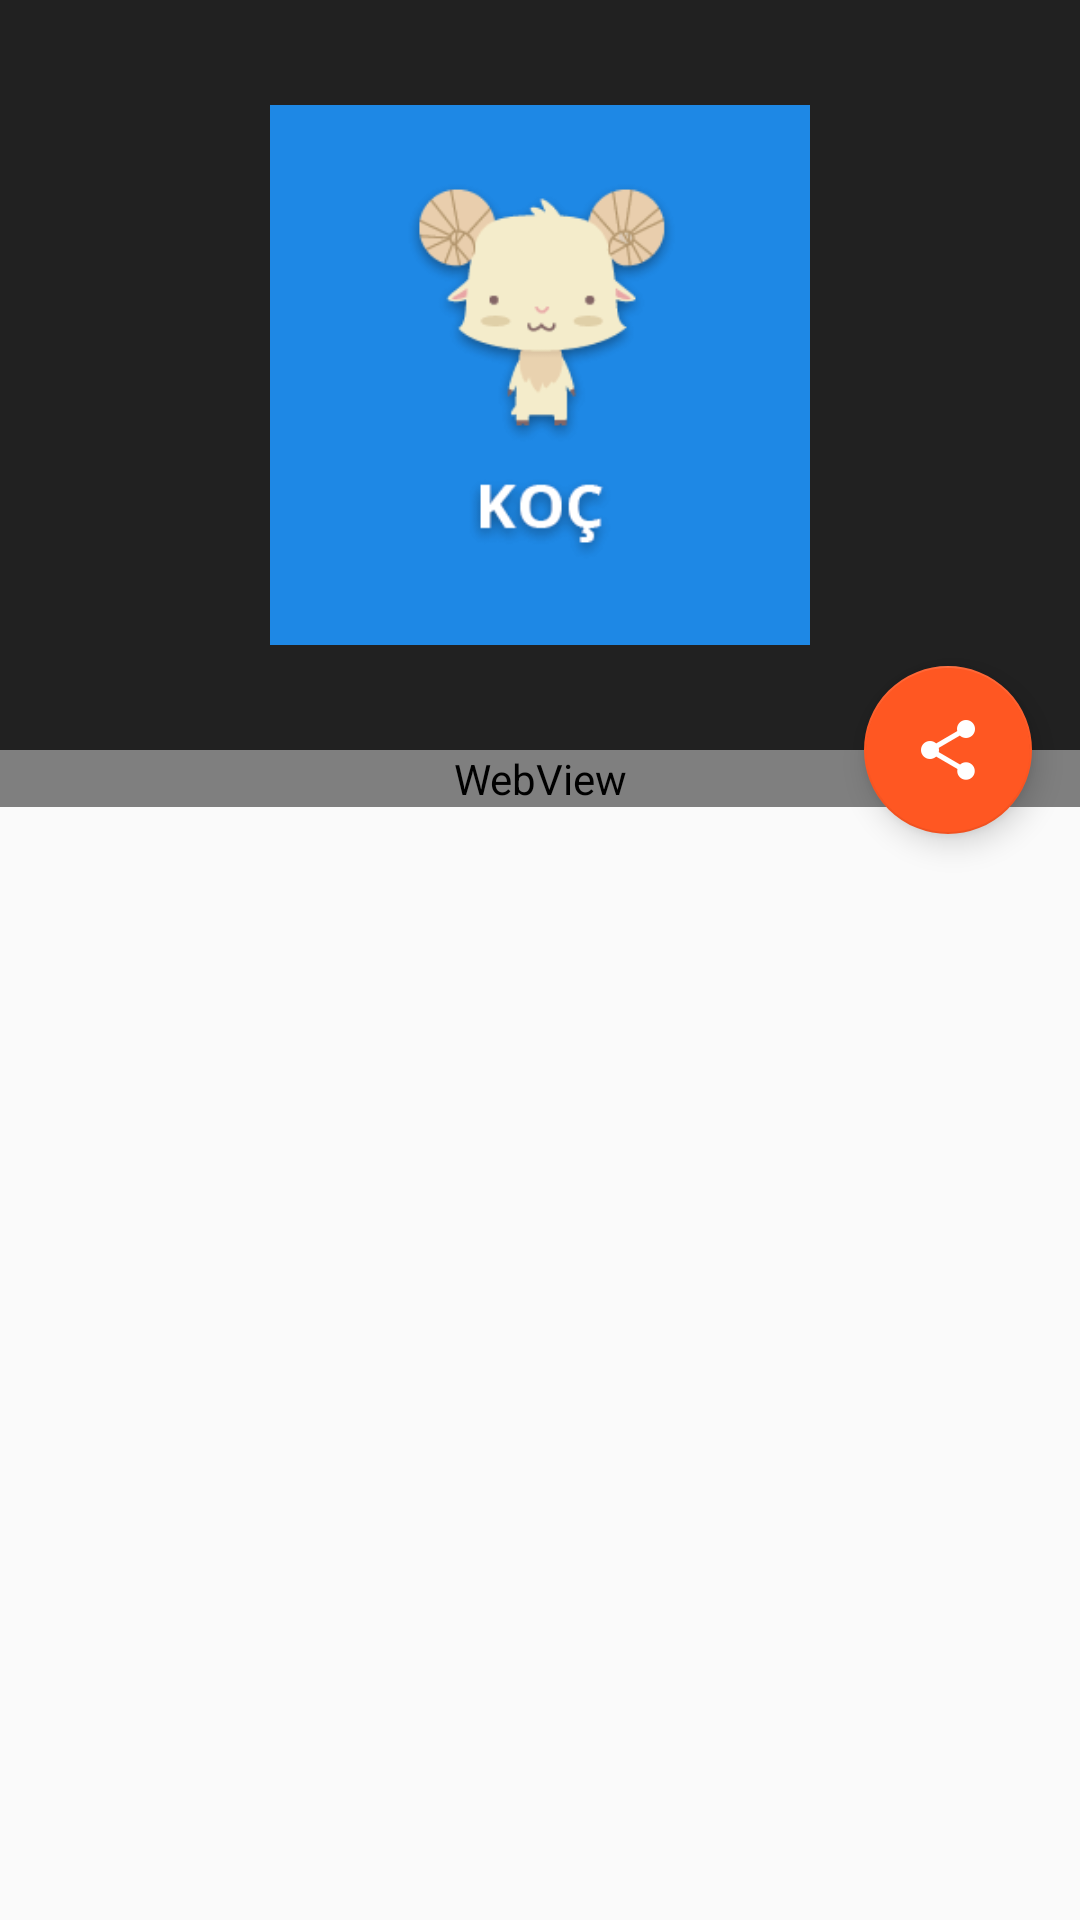

Point at icon controls on the screen. Image size 1080 × 1920, points as (x,y).
share: (948,750)
